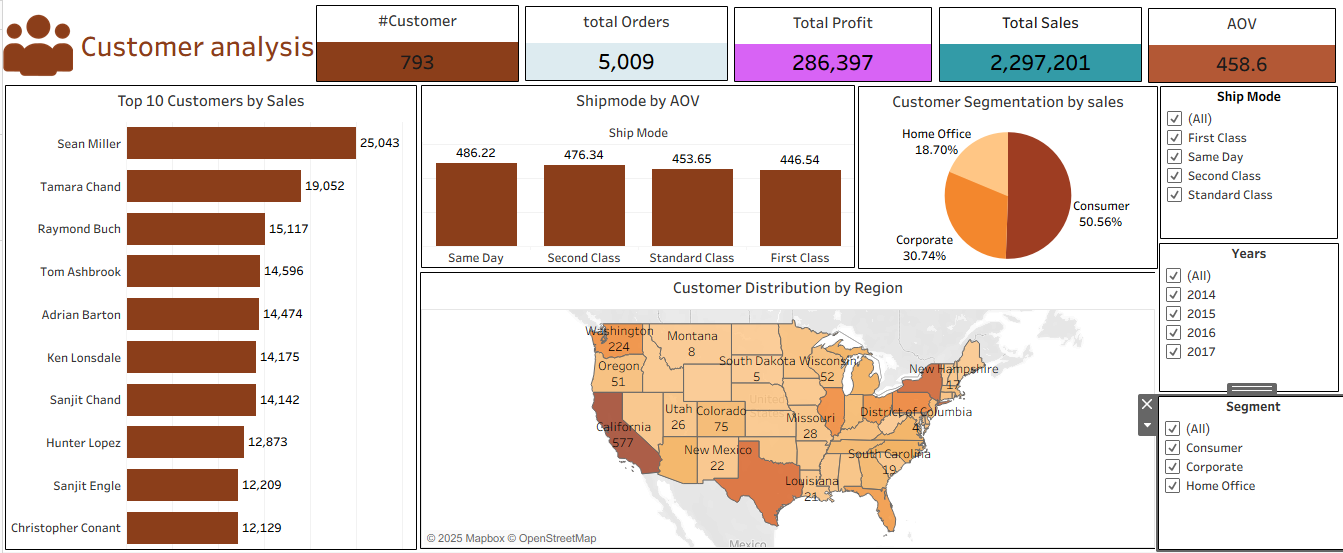

The dashboard page shown, as its layout file describes it:
{"tool":"tableau","page":{"name":"Customer analysis","canvas":[1000,1000],"units":"permille","ordinal":0},"visuals":[{"type":"worksheet","title":"#Customer","mark":"Automatic","box":[233.6,9.1,151.5,139.5]},{"type":"worksheet","title":"total Orders","mark":"Automatic","box":[389.5,10.9,151.5,135.9]},{"type":"worksheet","title":"Total Profit","mark":"Automatic","box":[545.5,12.7,148,135.9]},{"type":"worksheet","title":"Total Sales","mark":"Automatic","box":[698.8,12.7,151.5,135.9]},{"type":"worksheet","title":"AOV","mark":"Automatic","box":[854.7,14.5,139.9,135.9]},{"type":"text","box":[56,16.3,183.6,132.2]},{"type":"image","param":"C:/Users/paragon/Downloads/customer (1).png","box":[0,18.1,55.2,126.8]},{"type":"worksheet","title":"Top 10 Customers by Sales","mark":"Automatic","rows":["Customer Name"],"cols":["Sales"],"box":[1.8,154,307.5,842.4]},{"type":"worksheet","title":"Shipmode by AOV","mark":"Automatic","rows":["Calculation_1443403698788855809"],"cols":["Ship Mode"],"box":[311.9,154,323.5,331.5]},{"type":"worksheet","title":"Customer Segmentation by sales","mark":"Pie","box":[638.1,155.8,223.7,331.5]},{"type":"filter","title":"Shipmode by AOV","param":"[federated.01d47lb1yux3pj1e7rsqf0ced0a5].[none:Ship Mode:nk]","box":[863.6,155.8,132.8,277.2]},{"type":"filter","title":"Customer Distribution by Region","param":"[federated.01d47lb1yux3pj1e7rsqf0ced0a5].[yr:Order Date:ok]","box":[862.8,440.2,134.6,269.9]},{"type":"worksheet","title":"Customer Distribution by Region","mark":"Automatic","box":[311.1,492.8,549,501.8]},{"type":"filter","title":"Customer Segmentation by sales","param":"[federated.01d47lb1yux3pj1e7rsqf0ced0a5].[none:Segment:nk]","box":[861.9,717.4,142.6,279]}]}

Visuals, with their boxes on the dashboard's canvas, which has no fixed pixel size, in thousandths of its width and height (x1, y1, x2, y2). These are canvas units, not pixel positions in the 1343x553 screenshot, which may show the page scaled, cropped or inside an application window:
"#Customer" worksheet: left=234, top=9, right=385, bottom=149
"total Orders" worksheet: left=390, top=11, right=541, bottom=147
"Total Profit" worksheet: left=546, top=13, right=694, bottom=149
"Total Sales" worksheet: left=699, top=13, right=850, bottom=149
"AOV" worksheet: left=855, top=14, right=995, bottom=150
text: left=56, top=16, right=240, bottom=148
image: left=0, top=18, right=55, bottom=145
"Top 10 Customers by Sales" worksheet: left=2, top=154, right=309, bottom=996
"Shipmode by AOV" worksheet: left=312, top=154, right=635, bottom=486
"Customer Segmentation by sales" worksheet (Pie marks): left=638, top=156, right=862, bottom=487
"Shipmode by AOV" filter: left=864, top=156, right=996, bottom=433
"Customer Distribution by Region" filter: left=863, top=440, right=997, bottom=710
"Customer Distribution by Region" worksheet: left=311, top=493, right=860, bottom=995
"Customer Segmentation by sales" filter: left=862, top=717, right=1004, bottom=996
